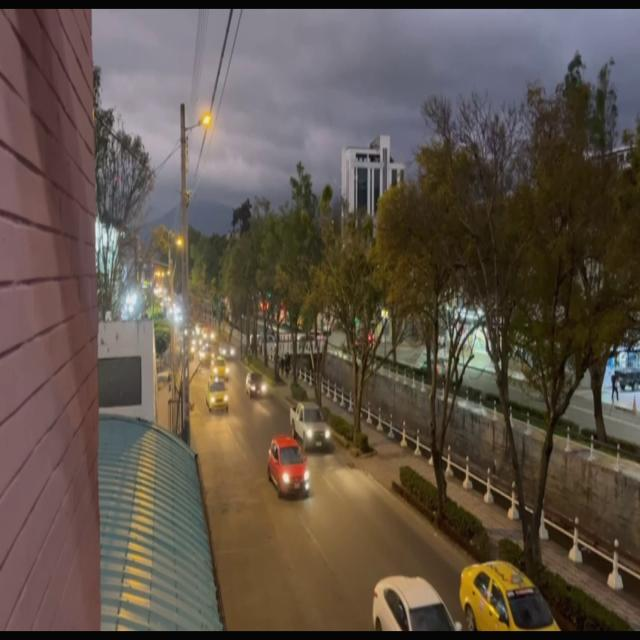CMT: (290, 401, 331, 452)
SED: (460, 560, 559, 631), (372, 576, 460, 632), (269, 436, 309, 496), (205, 378, 230, 413), (246, 372, 269, 399)
